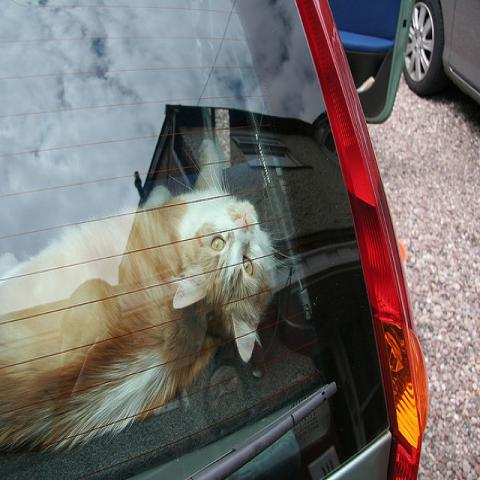car: (0, 0, 429, 475), (403, 0, 480, 106)
